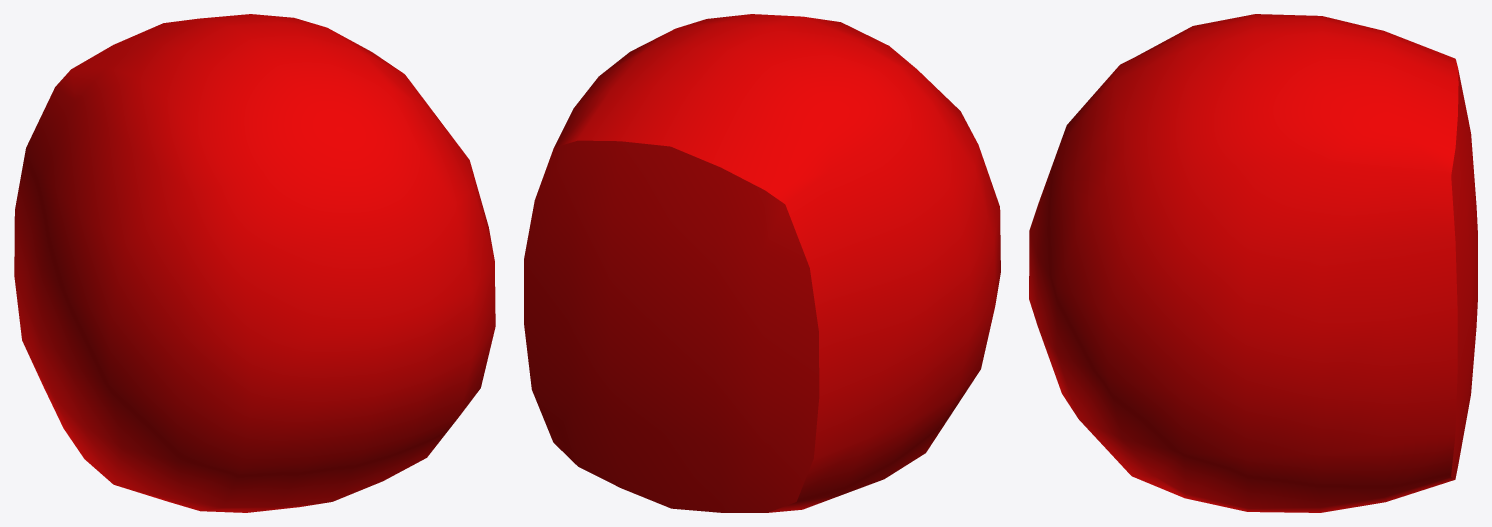
The model's file is big round nose.fbx.
The picture shows the model from 3 angles, left to right: view 1: azimuth 30°, elevation 25°; view 2: azimuth 150°, elevation 25°; view 3: azimuth 270°, elevation 25°; orthographic projection.
Visible parts, largest first — view 1: pCube14; view 2: pCube14; view 3: pCube14.
Boxes of the visible parts, x1,y1,x2,y2 form: pCube14: (14,14,495,512); pCube14: (524,14,1000,512); pCube14: (1029,14,1477,512).
Bounding box in the file's own units: 115 × 125 × 112.
